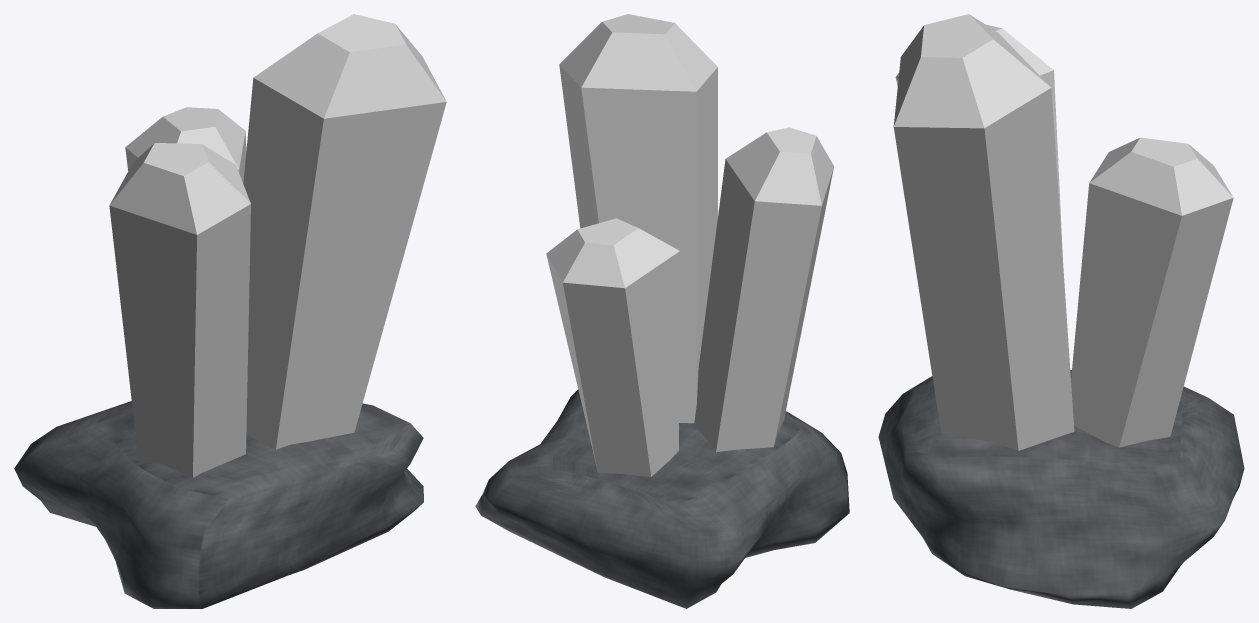
The model's file is Kristal 2.fbx.
3 views of the same model, side by side, from view 1: azimuth 30°, elevation 25°; view 2: azimuth 150°, elevation 25°; view 3: azimuth 270°, elevation 25° (orthographic). The views are drawn at different scales.
Parts seen in each view (by area): view 1: pCylinder4, pCube1; view 2: pCylinder4, pCube1; view 3: pCylinder4, pCube1.
Boxes of the visible parts, x1,y1,x2,y2 form: pCylinder4: [109, 14, 446, 477]; pCube1: [14, 401, 423, 608]; pCylinder4: [546, 14, 833, 476]; pCube1: [475, 389, 849, 608]; pCylinder4: [893, 14, 1233, 450]; pCube1: [878, 370, 1244, 608].
Size of the model in its own units: 3.35 by 5.1 by 3.11.
2 materials, 1 textured.
